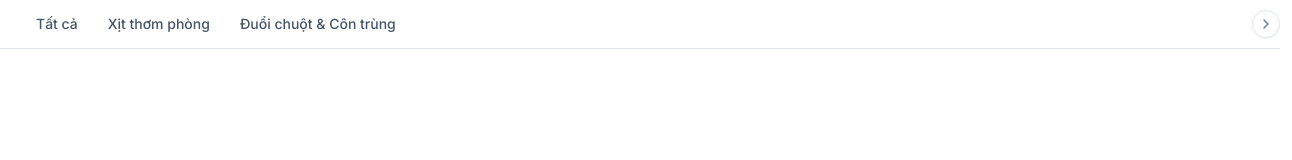
Scenario: CategoryNav › shows "Chưa có danh mục con" when active category has no subcategories
Hover over the link "Đuổi chuột & Côn trùng".
mouse_move(318, 24)  # box x1=240 y1=15 x2=396 y2=32
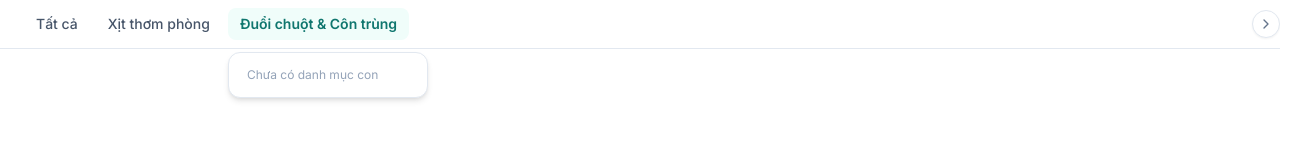
Check: the text "Chưa có danh mục con" is shown, box x1=247 y1=67 x2=378 y2=82
